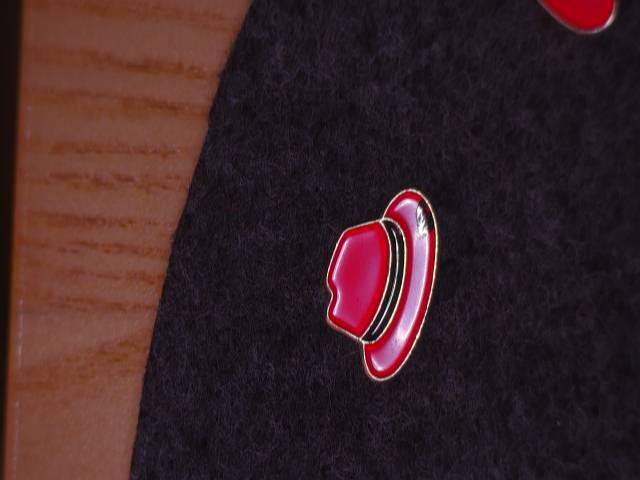Red-Hat: (317, 159, 487, 406)
Scratch: (405, 187, 449, 247)
